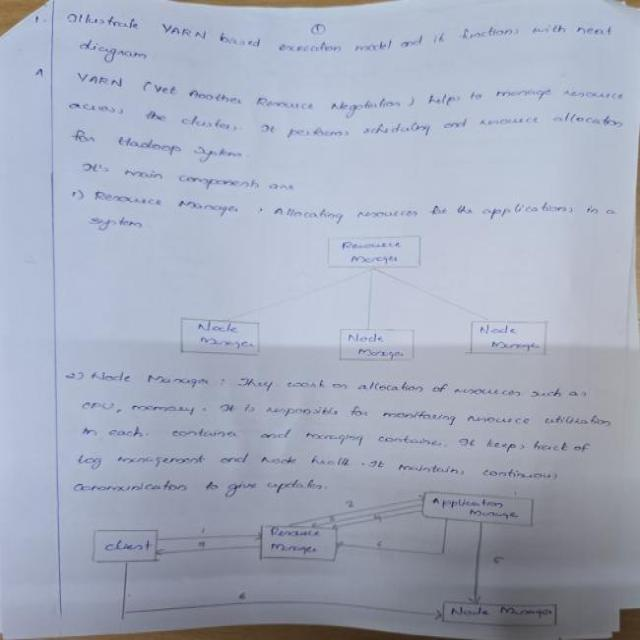Figure Detection - v3 Dataset Version2: (80, 482, 590, 632), (155, 224, 577, 366)
